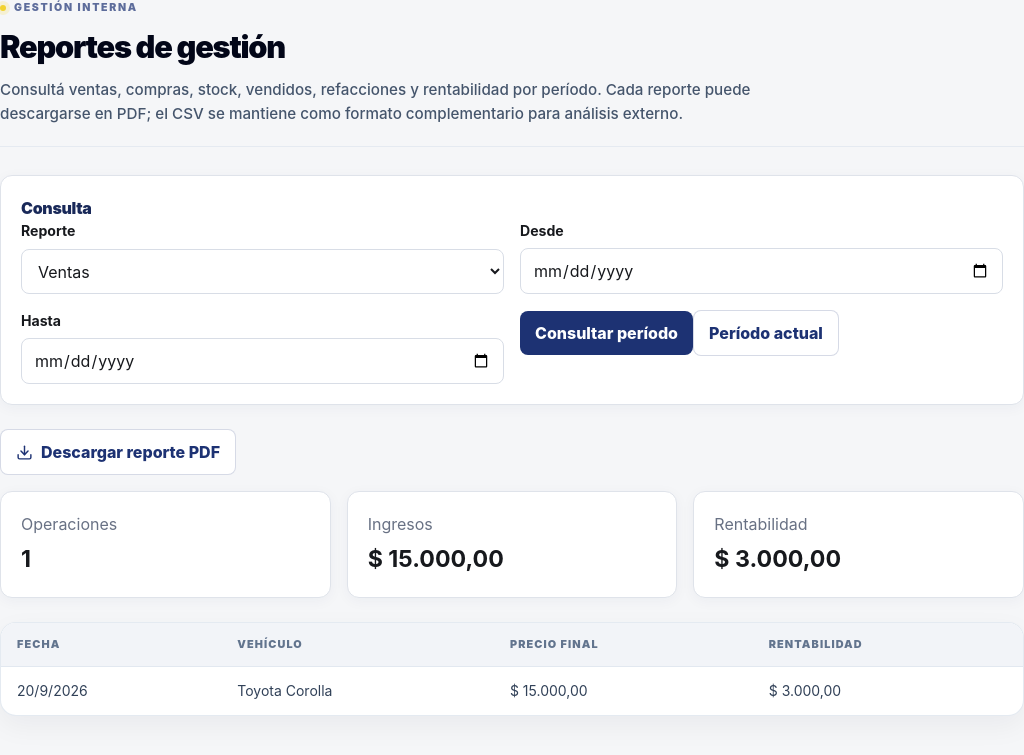
ReportesPage CF-02 › rechaza un período invertido sin ejecutar una nueva consulta
Expected: the text "Toyota Corolla" is shown, [221,667,494,715]
Type "2026-09-30" into the date field labelled "Desde" at (762, 271), box [520,248,1003,294]
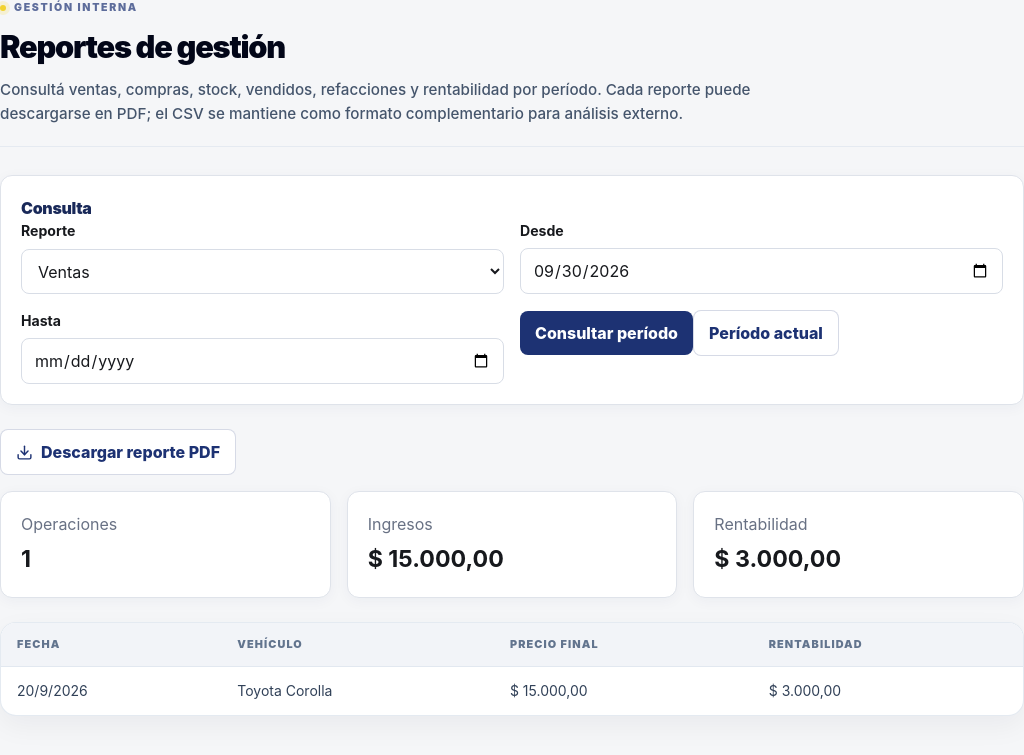
Type "2026-09-01" into the date field labelled "Hasta" at (262, 361), box [21,338,504,384]
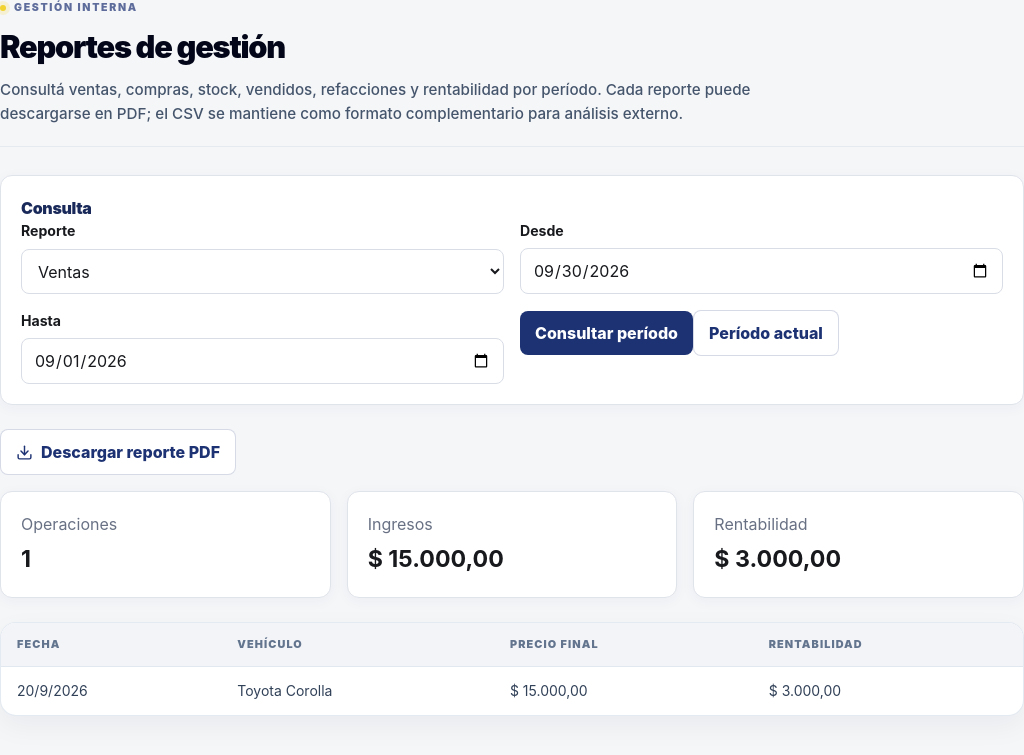
Submit the form "Consultar período", box [21,220,1003,384]
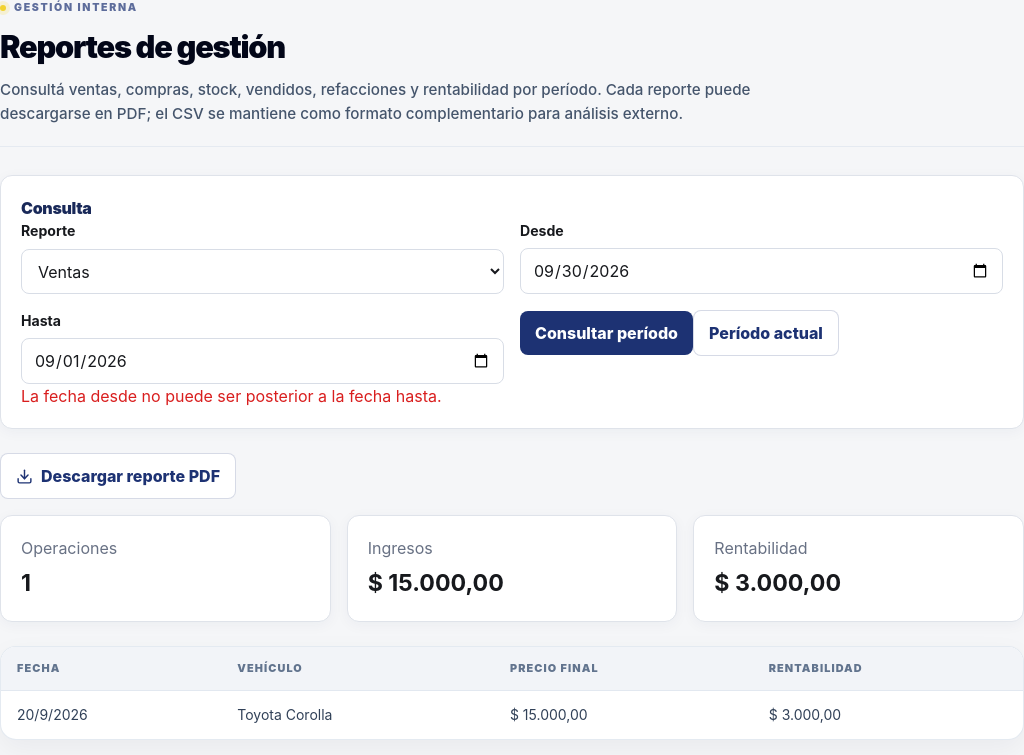
Expected: the message shows "La fecha desde no puede ser posterior", [21,386,442,406]
